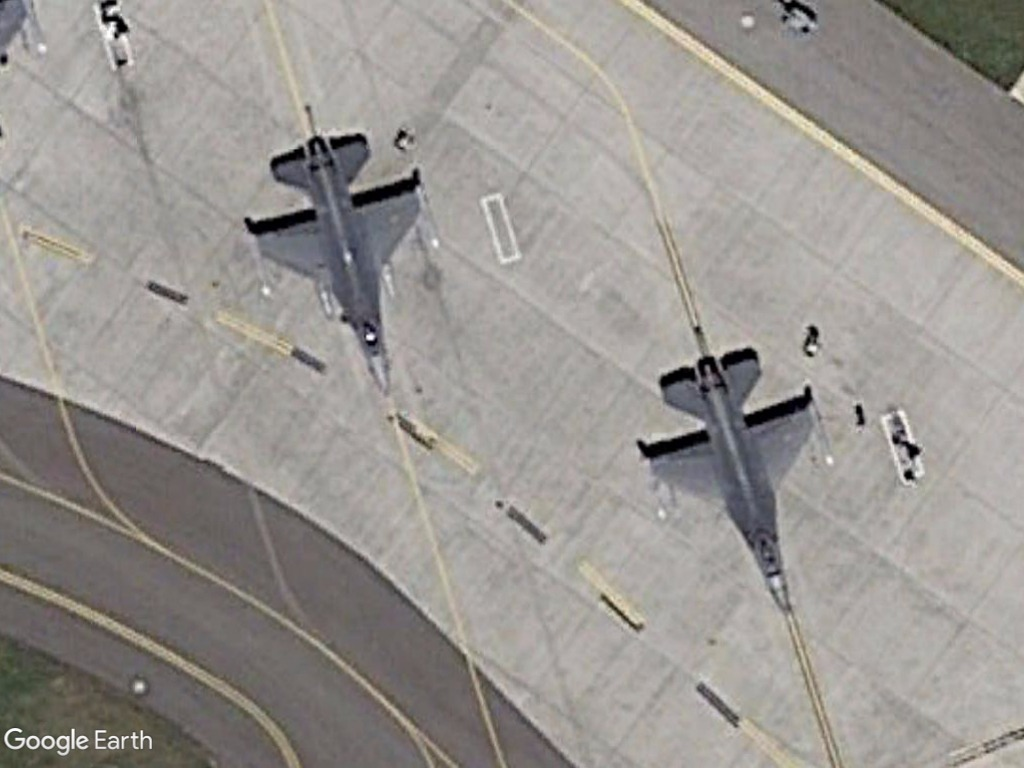fighter: (635, 342, 851, 640), (243, 129, 453, 413)
